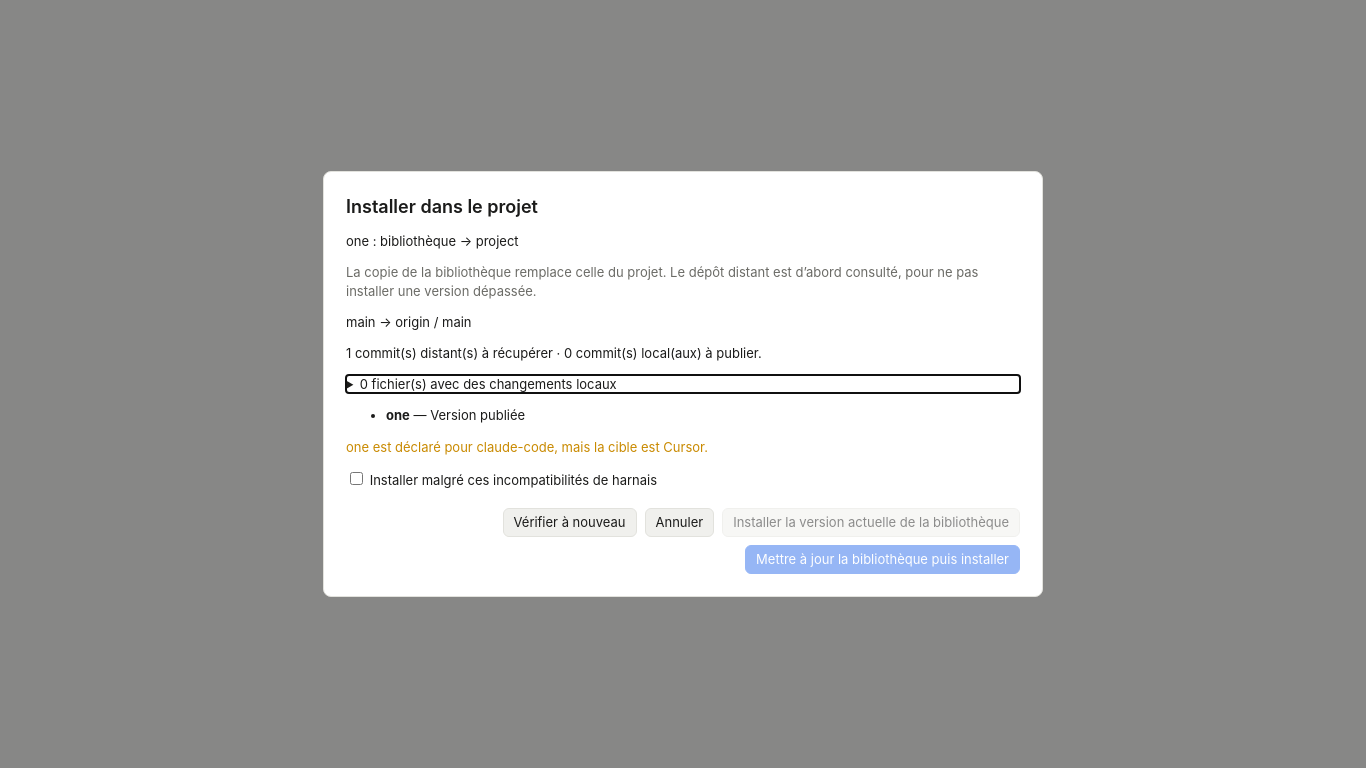
Scenario: install verification › requires accepting host warnings before any install
The width and height of the screenshot is (1366, 768).
expect the text "one est déclaré pour claude-code, mais la cible est Cursor." is shown: met, box [346,439,708,455]
expect the button "Installer la version actuelle de la bibliothèque" is disabled: met, box [722,508,1020,537]
Click the checkbox at [356, 479], box [350,472,363,485]
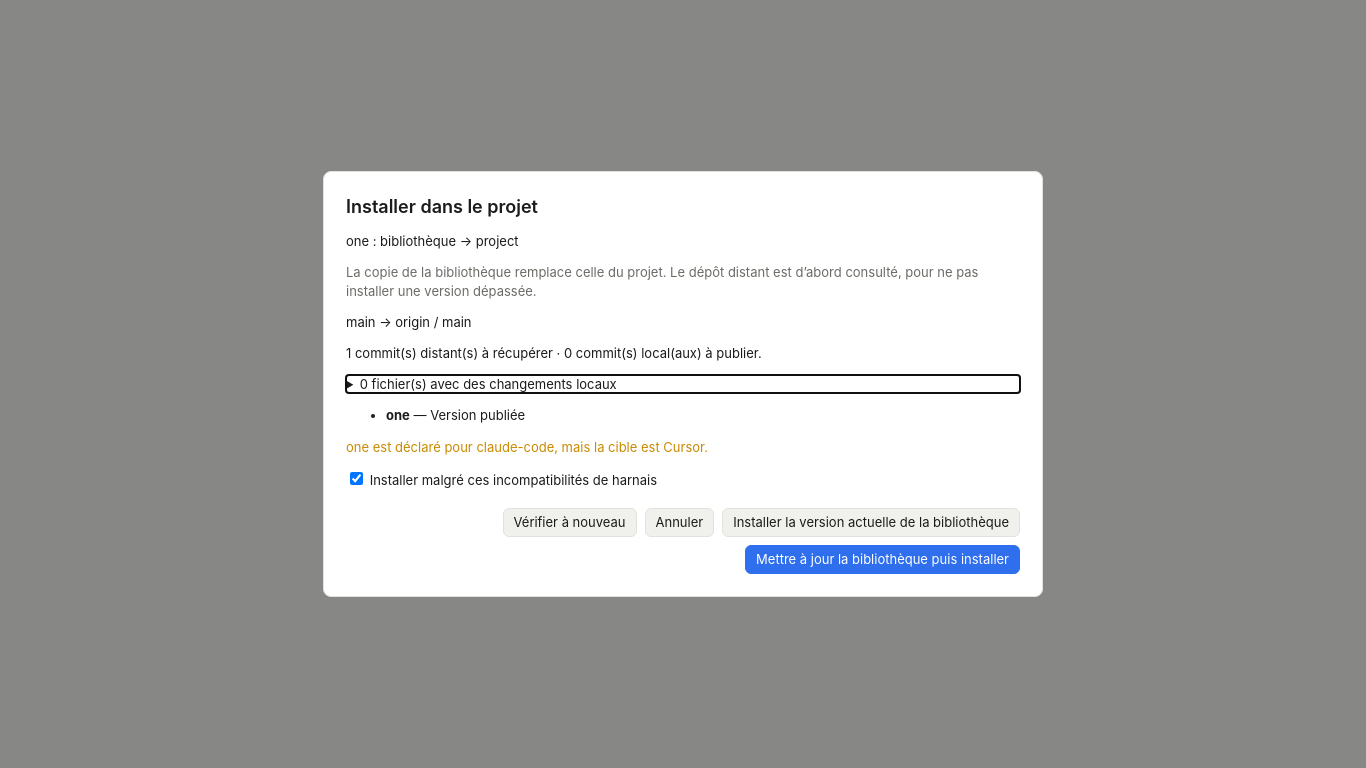
expect the button "Installer la version actuelle de la bibliothèque" is enabled: met, box [722,508,1020,537]
expect the button "Mettre à jour la bibliothèque puis installer" is enabled: met, box [745,545,1020,574]
